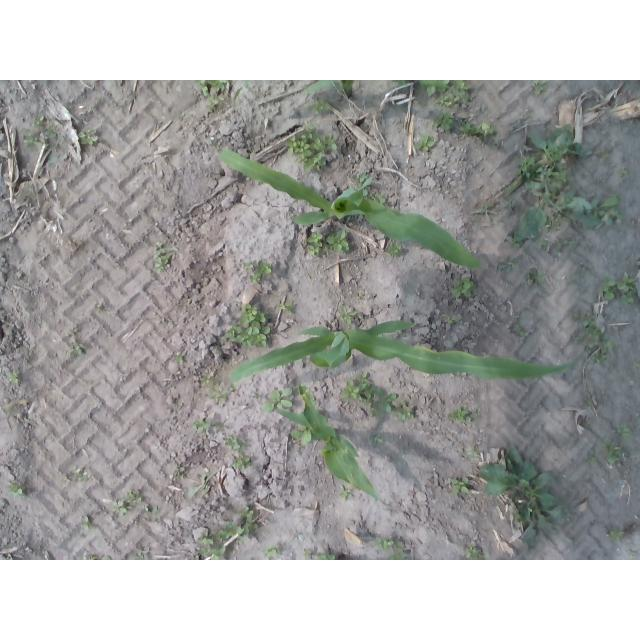Maize: (218, 146, 482, 271), (230, 320, 583, 381), (274, 386, 390, 507), (233, 80, 353, 106)
Weeds: (505, 122, 606, 250), (480, 444, 569, 549), (283, 120, 337, 172), (571, 308, 617, 364), (221, 302, 272, 348), (212, 505, 259, 543), (366, 388, 414, 421), (419, 80, 474, 106), (589, 195, 623, 225), (224, 434, 252, 470), (339, 375, 374, 402), (150, 241, 176, 272), (372, 536, 405, 560), (112, 489, 141, 515), (241, 259, 272, 283), (264, 388, 293, 413), (197, 537, 227, 560), (459, 121, 497, 139), (617, 273, 639, 304), (326, 228, 351, 253), (474, 198, 499, 223), (187, 472, 212, 496), (601, 437, 624, 463), (290, 422, 318, 443), (210, 384, 238, 404), (451, 277, 475, 299), (464, 540, 490, 560), (353, 171, 372, 198), (305, 229, 323, 257), (430, 110, 454, 131), (196, 81, 229, 96), (190, 417, 214, 436), (447, 407, 473, 424), (338, 305, 358, 326), (20, 128, 41, 148), (598, 276, 615, 300), (525, 268, 548, 285), (77, 128, 99, 145), (414, 134, 434, 151), (450, 476, 469, 493), (7, 484, 26, 500), (310, 98, 330, 113), (498, 259, 518, 274), (530, 81, 549, 96), (277, 301, 295, 315), (45, 122, 60, 138), (616, 423, 630, 440), (339, 485, 354, 500), (264, 545, 279, 559), (386, 244, 402, 257), (511, 323, 525, 337), (69, 344, 84, 357), (207, 95, 220, 110), (142, 504, 159, 515), (609, 529, 623, 542), (597, 147, 610, 161), (88, 553, 112, 560), (171, 354, 185, 365), (74, 469, 88, 480), (200, 375, 212, 387), (131, 550, 145, 560), (317, 553, 336, 560), (8, 373, 20, 384), (33, 113, 44, 125), (616, 168, 628, 179), (374, 193, 387, 203), (467, 447, 480, 457), (578, 265, 591, 275), (443, 315, 459, 323), (303, 549, 313, 560), (82, 516, 90, 529), (372, 435, 382, 445), (317, 447, 327, 457), (394, 80, 407, 86), (631, 362, 640, 370), (588, 455, 597, 462), (587, 398, 594, 406)
